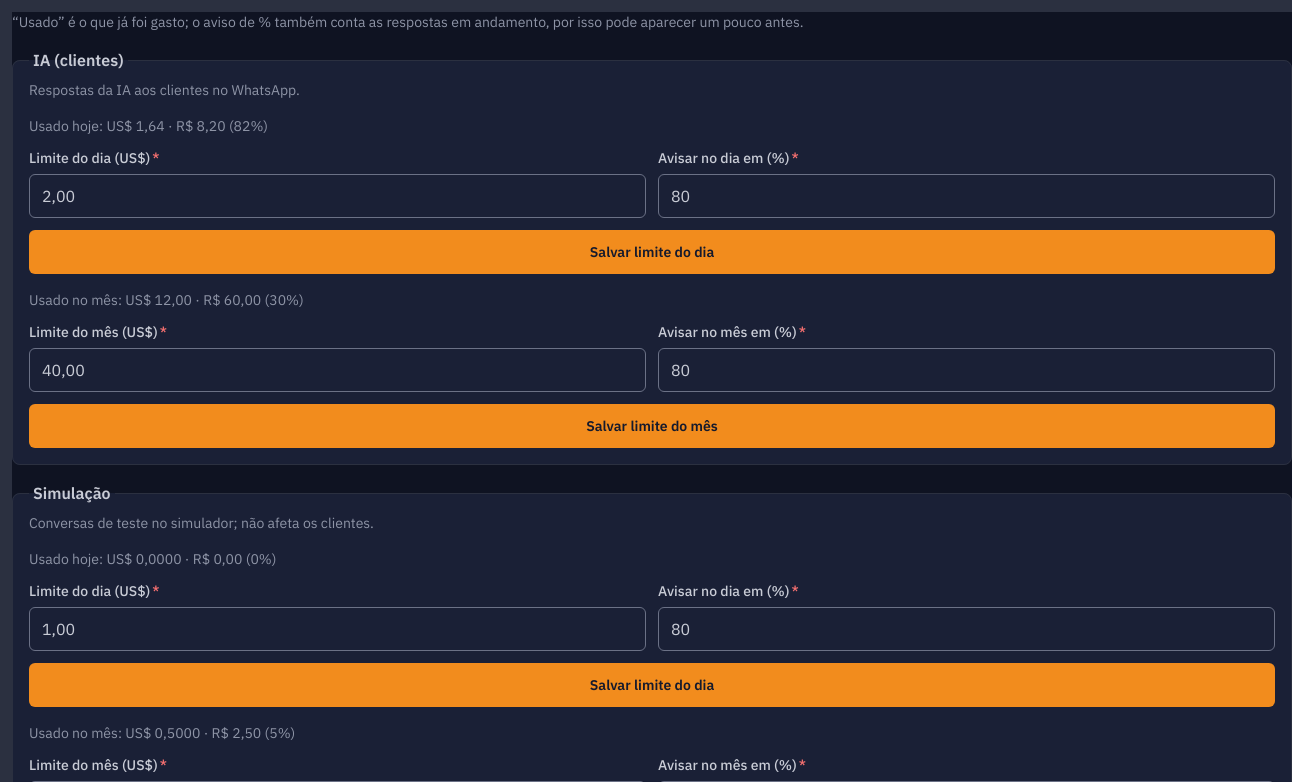
Test: Limites › erro do servidor aparece no formulário certo
Click the button "Salvar limite do dia" below "US$ 0,0000" at (652,685), box [29,663,1275,707]
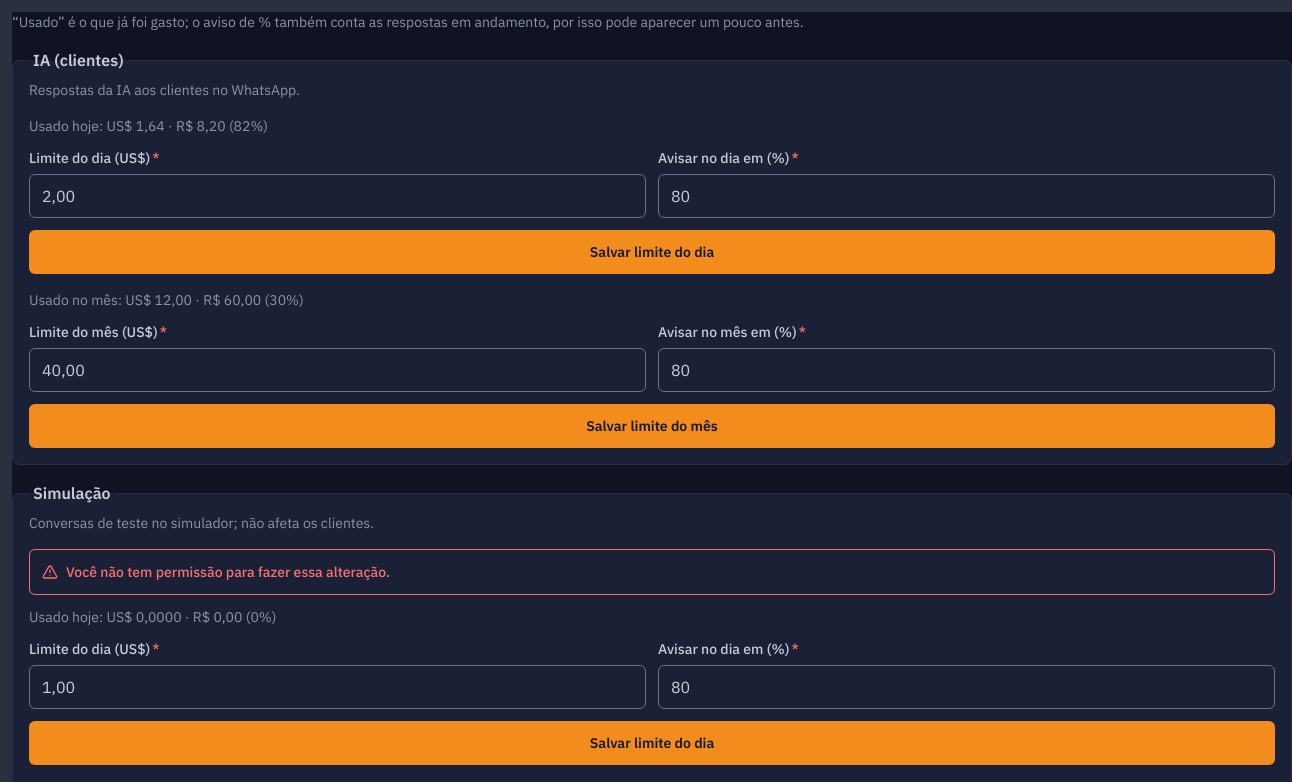
Now the message reads "Você não tem permissão para fazer essa alteração.", box [66,563,390,581]
